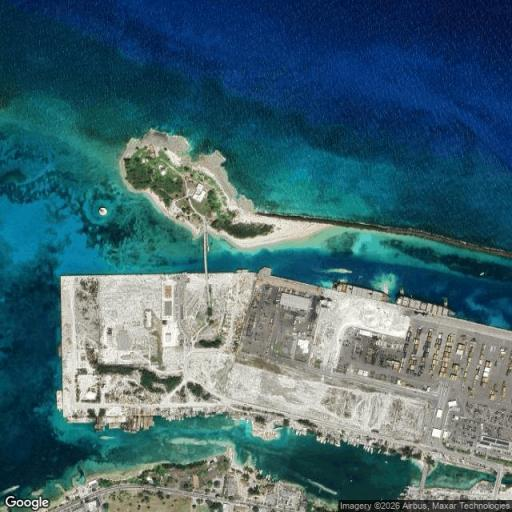ship: (394, 295, 460, 320), (328, 279, 393, 303), (1, 484, 21, 496), (475, 270, 491, 283), (135, 414, 143, 434), (130, 415, 139, 432), (326, 268, 353, 273), (57, 389, 63, 411), (100, 435, 117, 440), (57, 343, 62, 359), (145, 416, 150, 430), (321, 438, 329, 446), (335, 444, 345, 450), (149, 415, 153, 430), (141, 418, 145, 432), (364, 446, 370, 452), (371, 448, 375, 456), (378, 448, 382, 455), (316, 436, 320, 443), (364, 444, 366, 450), (368, 446, 368, 455)
